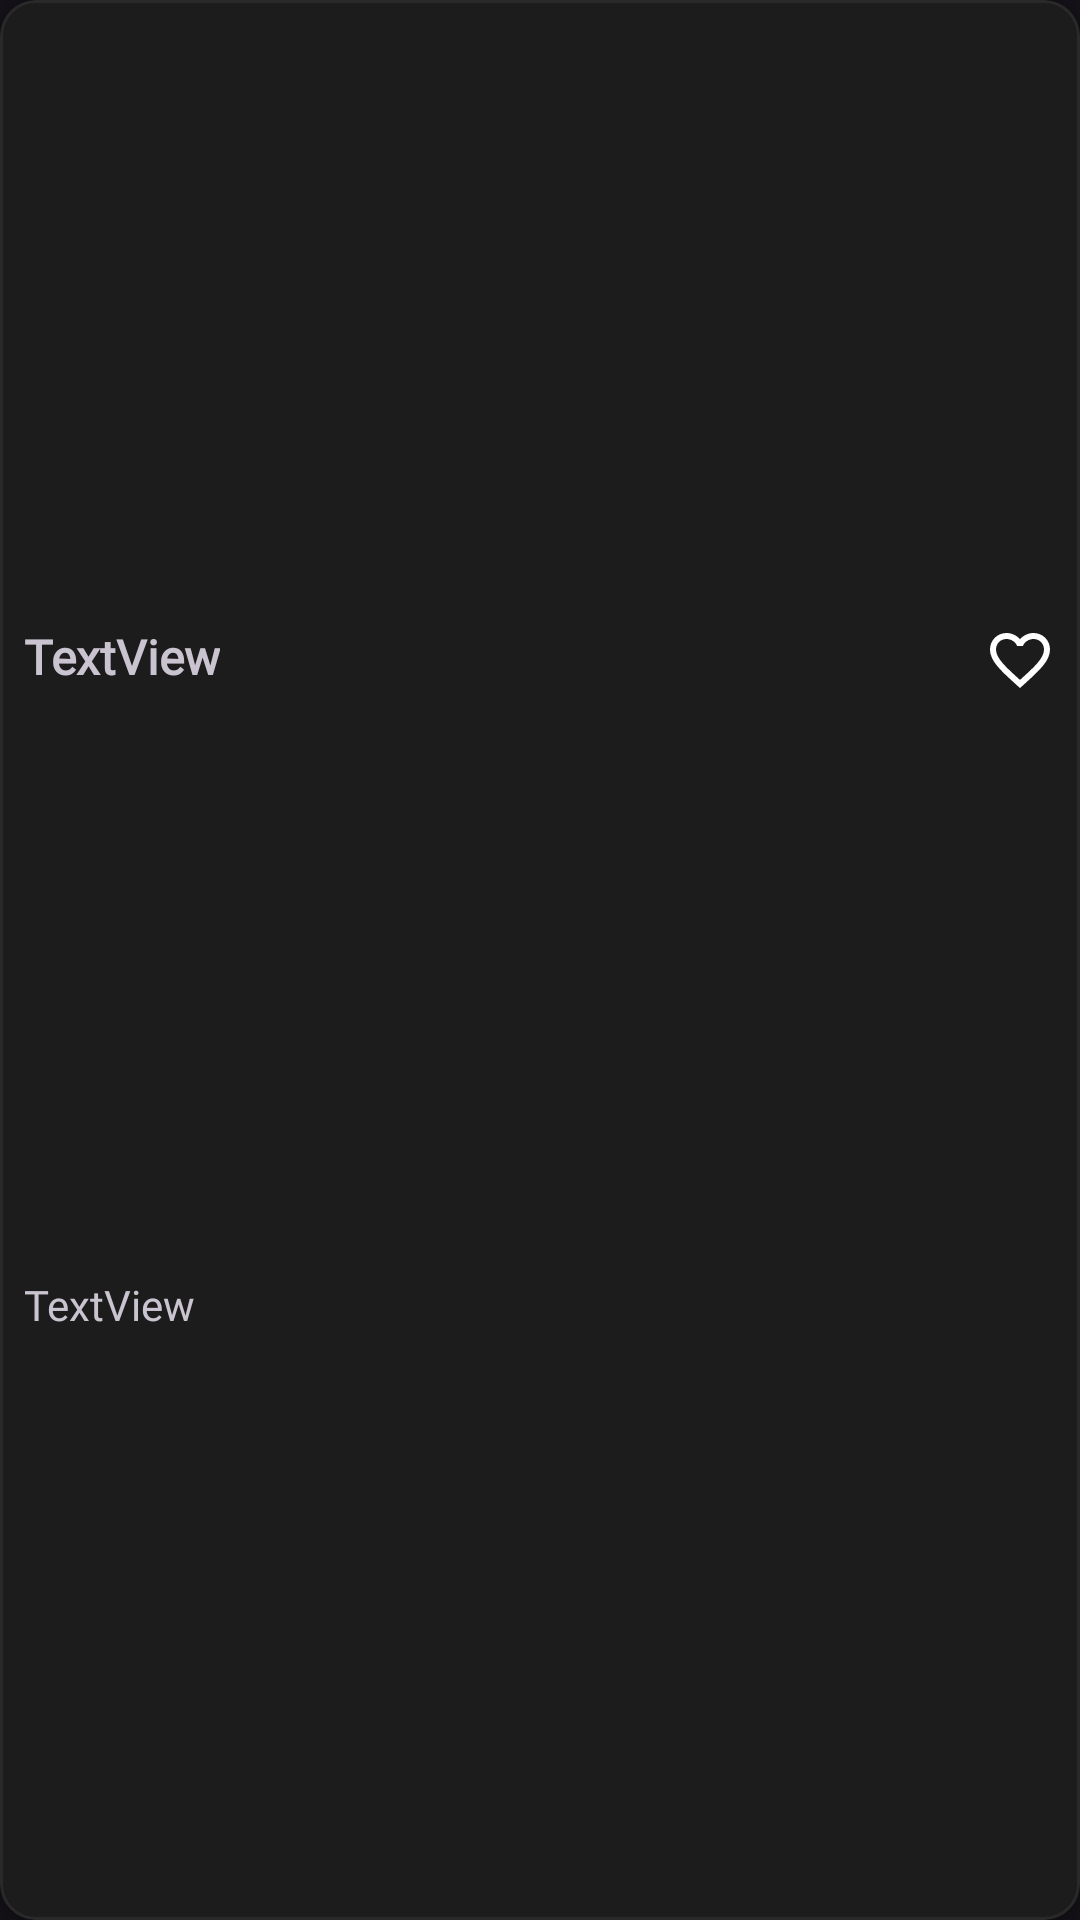

Icons on this 1080px×1920px Android screen, each with its box as (x1, y1, x2, y2):
favorite border: (990, 633, 1050, 688)
